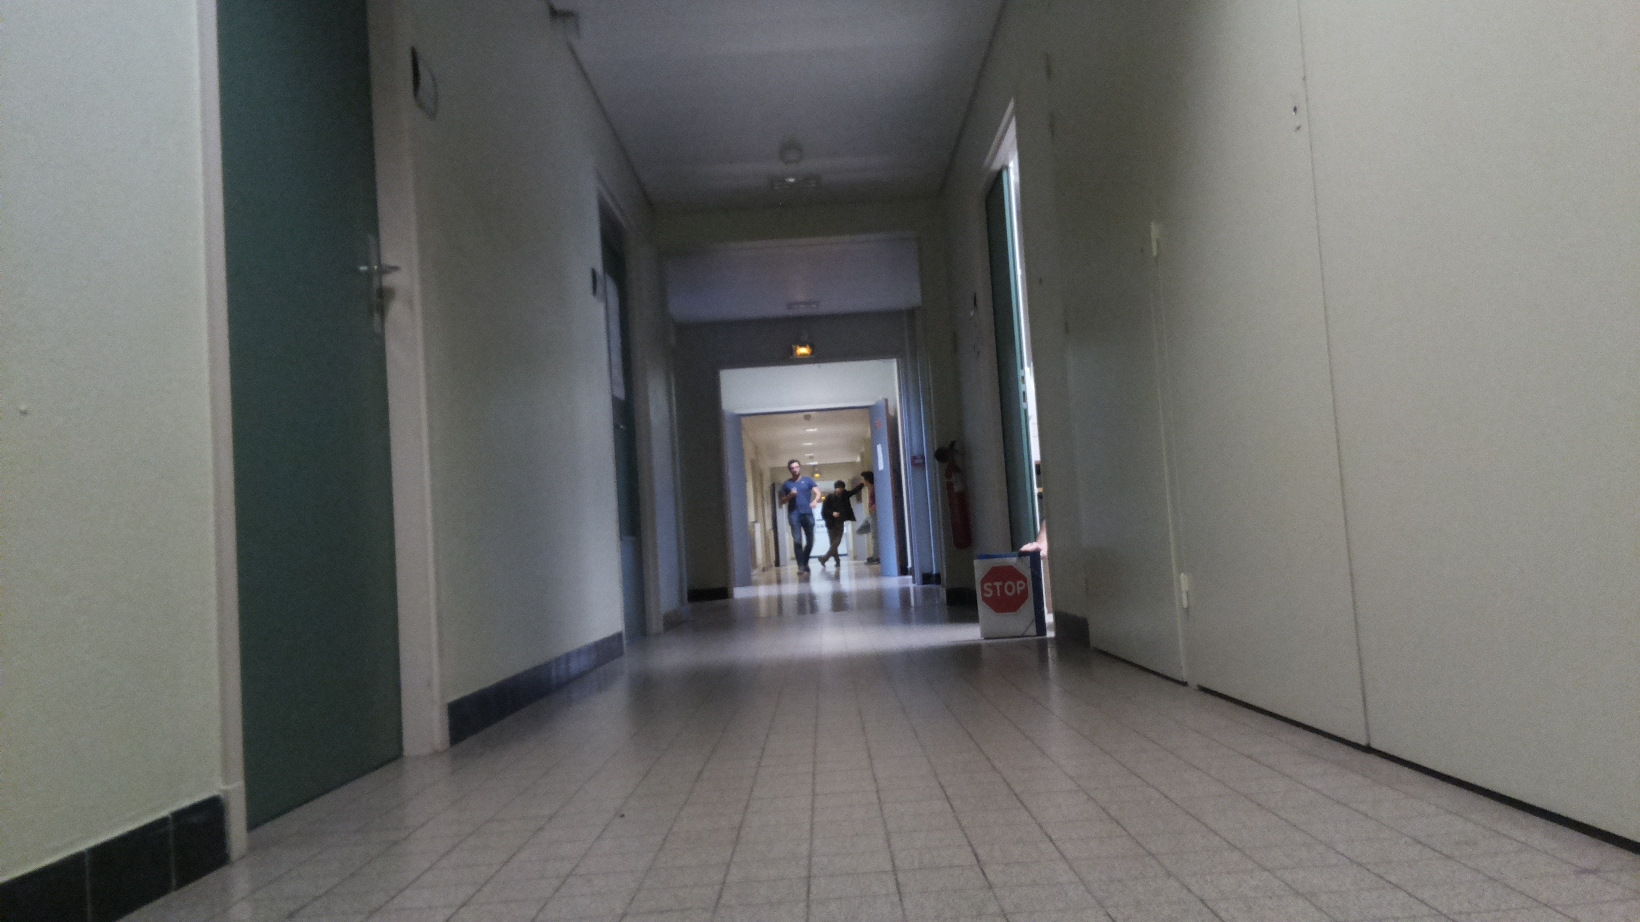stop: (979, 564, 1031, 615)
